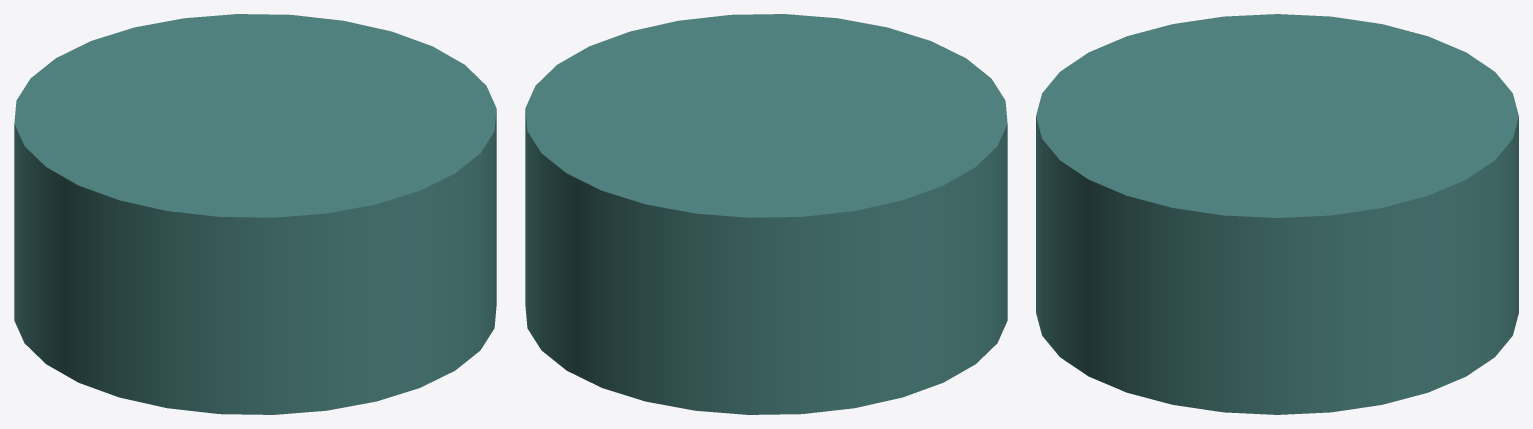
Rendered from wp-zafu-rond.glb.
The picture shows the model from 3 angles, left to right: view 1: azimuth 30°, elevation 25°; view 2: azimuth 150°, elevation 25°; view 3: azimuth 270°, elevation 25°; orthographic projection.
Parts seen in each view (by area): view 1: wp-zafu-rond; view 2: wp-zafu-rond; view 3: wp-zafu-rond.
Boxes of the visible parts, left/top/right/bottom form: wp-zafu-rond: left=14, top=14, right=496, bottom=414; wp-zafu-rond: left=525, top=14, right=1007, bottom=414; wp-zafu-rond: left=1036, top=14, right=1518, bottom=414.
Size of the model in its own units: 0.4 by 0.18 by 0.4.
